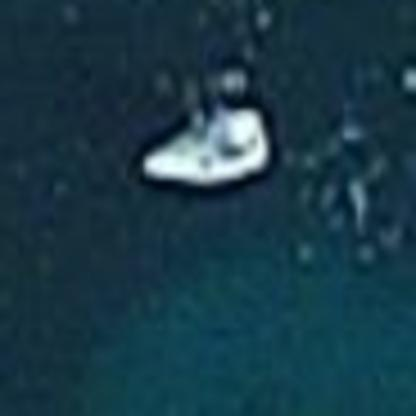ship: (133, 95, 279, 199)
